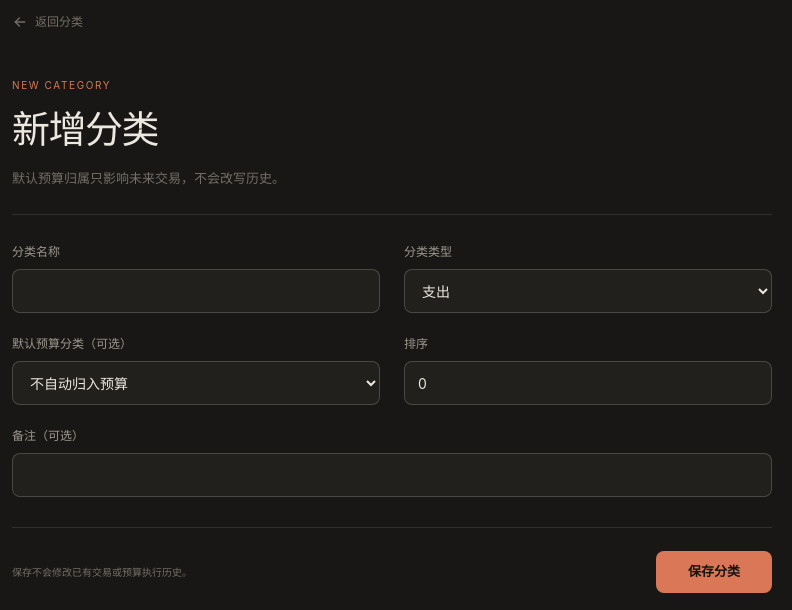
Test: category management UI › removes budget selection when switching to income
Expected: the dropdown labelled "默认预算分类（可选）" is shown, [12, 361, 380, 405]
Select "收入" in the dropdown labelled "分类类型". click: (588, 291)
box: [404, 269, 772, 313]
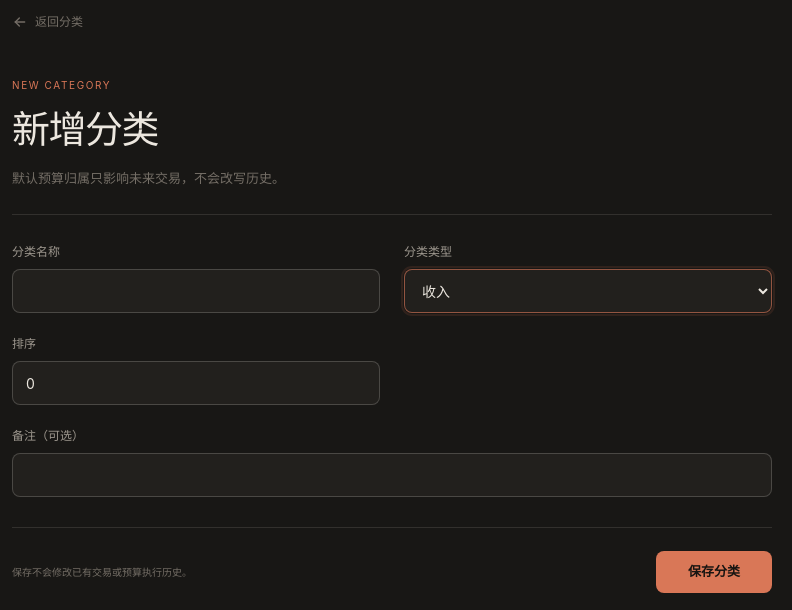
Result: the text labelled "默认预算分类（可选）" is gone
